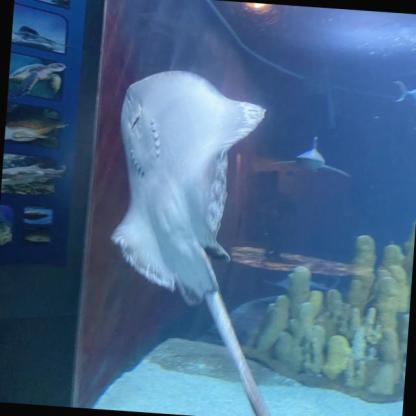fish: (390, 80, 415, 107), (411, 110, 415, 132)
shark: (271, 133, 355, 182)
stingray: (107, 63, 267, 310)
